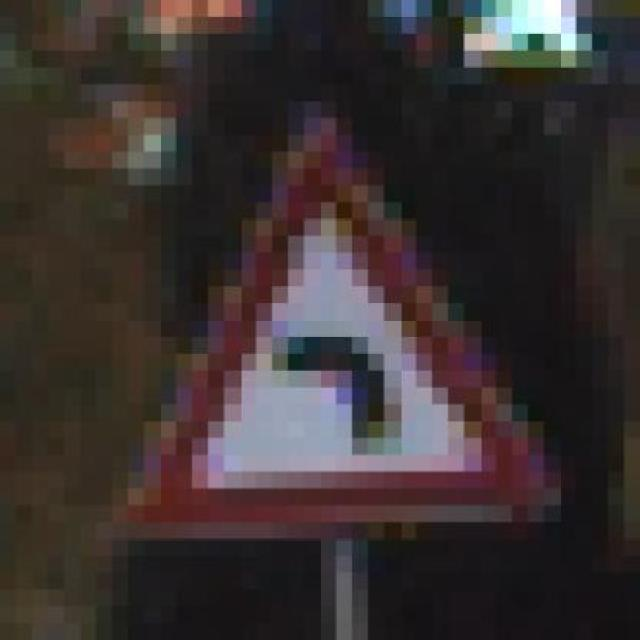Dangerous Left Curve Ahead: (112, 84, 576, 556)
